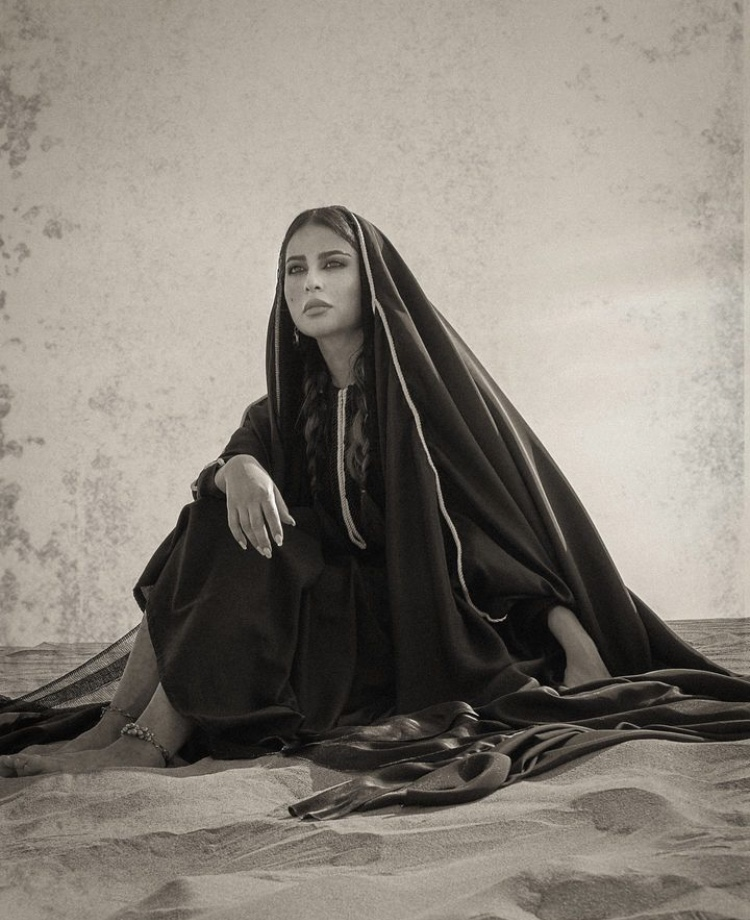Saudi_Founding_Day: (1, 204, 747, 824)
